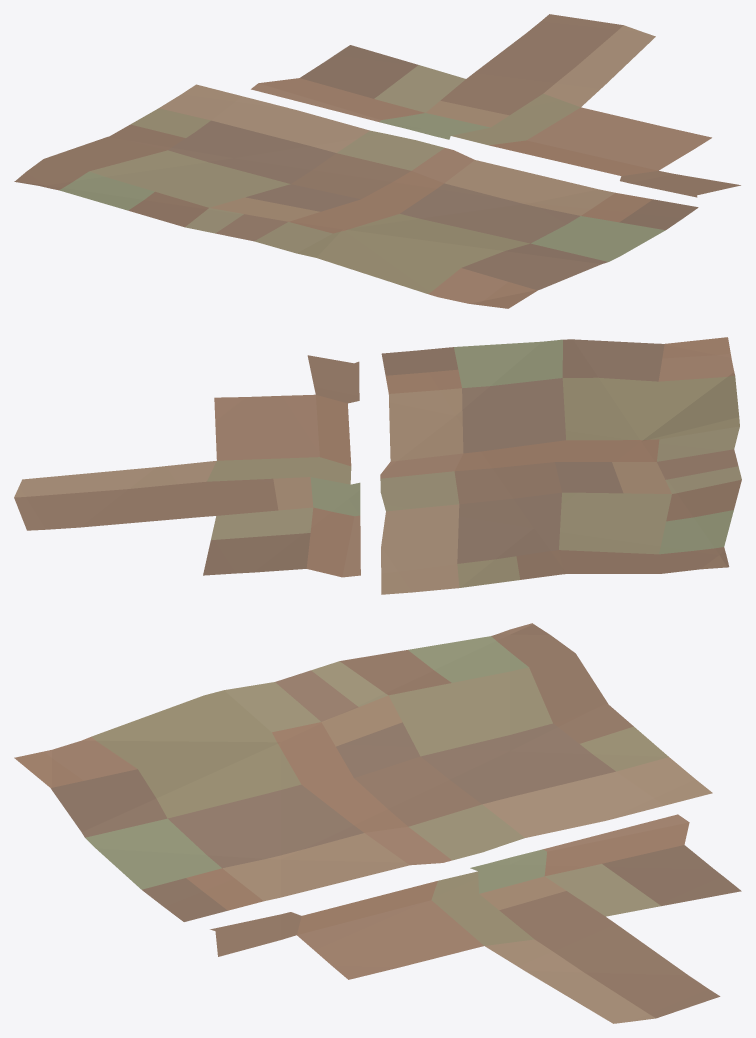
File: farm_2_15_soil.glb
The picture shows the model from 3 angles, top to bottom: view 1: azimuth 30°, elevation 25°; view 2: azimuth 150°, elevation 25°; view 3: azimuth 270°, elevation 25°; orthographic projection. The views are drawn at different scales.
Parts seen in each view (by area): view 1: geometry_0; view 2: geometry_0; view 3: geometry_0.
Boxes of the visible parts, x1=… form: geometry_0: x1=14, y1=14, x2=740, y2=308; geometry_0: x1=14, y1=337, x2=741, y2=594; geometry_0: x1=14, y1=623, x2=741, y2=1023.
Size of the model in its own units: 289 by 21.35 by 254.
